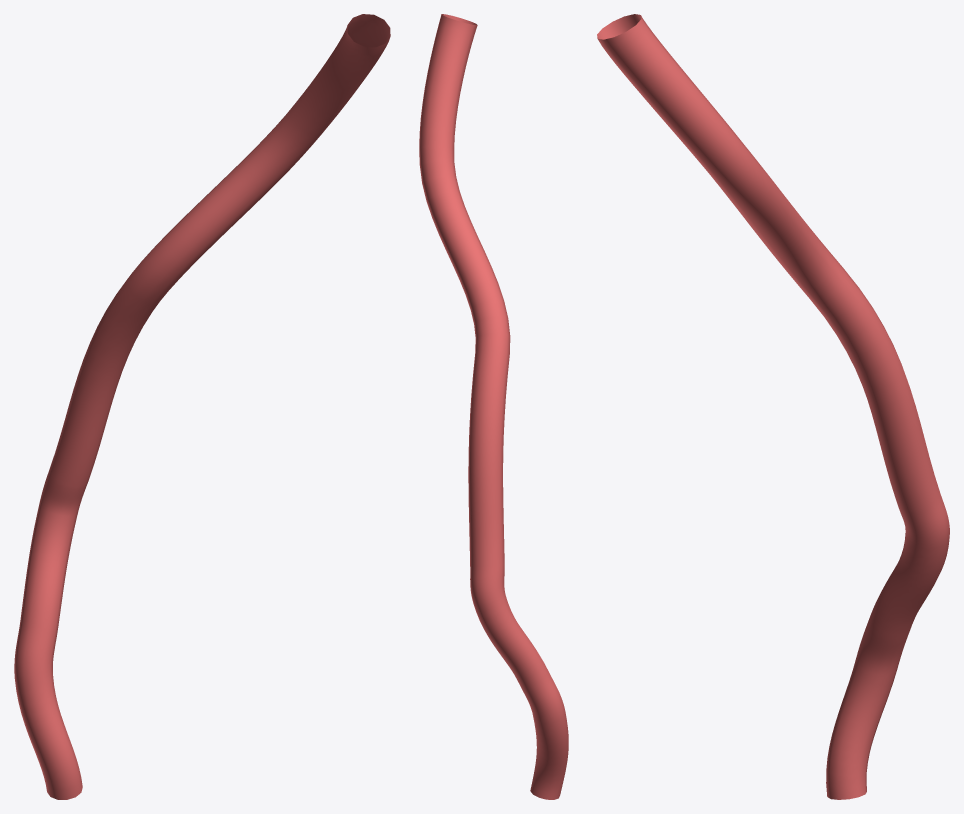
File: Popliteal_artery.r_BezierCurve.225.glb
3 views of the same model, side by side, from view 1: azimuth 30°, elevation 25°; view 2: azimuth 150°, elevation 25°; view 3: azimuth 270°, elevation 25° (orthographic). The views are drawn at different scales.
Parts seen in each view (by area): view 1: Popliteal_artery.r_BezierCurve.225; view 2: Popliteal_artery.r_BezierCurve.225; view 3: Popliteal_artery.r_BezierCurve.225.
Part boxes in pixels (bbox=[...]): Popliteal_artery.r_BezierCurve.225: bbox=[14, 14, 390, 799]; Popliteal_artery.r_BezierCurve.225: bbox=[419, 14, 568, 799]; Popliteal_artery.r_BezierCurve.225: bbox=[597, 14, 949, 799].
Bounding box in the file's own units: 0.0615 × 0.1828 × 0.0656.
